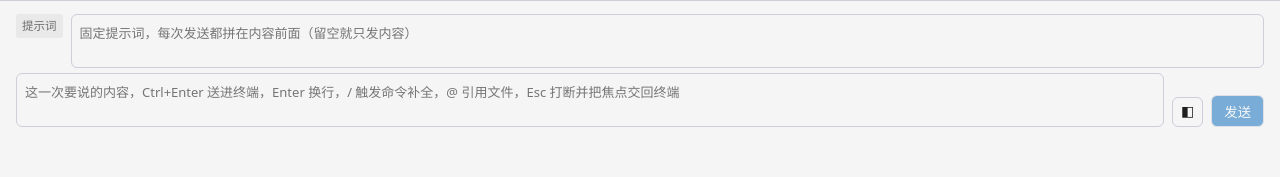
Test case: 终端输入框 › 提示词非空 + 内容是命令时，警告这条命令已经不是命令了
Replace the text in the 2nd text box with "/help": [590, 100] box left=16, top=73, right=1164, bottom=127
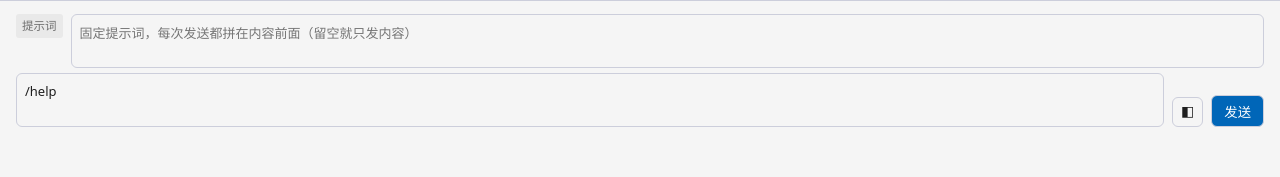
In the text box with placeholder "固定提示词，每次发送都拼在内容前面（留空就只发内容）": [667, 41] box left=70, top=14, right=1264, bottom=68, type "请只用一句话回答："
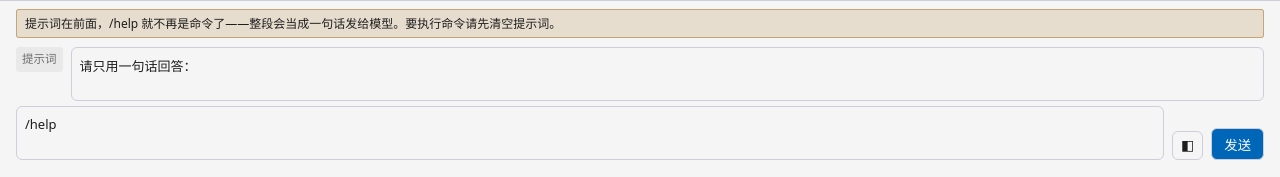
Expected: the message "提示词在前面，/help 就不再是命令了——整段会当成一句话发给模型。要执行命令请先清空提示词。" is shown, left=16, top=9, right=1264, bottom=38
Expected: the message with class "composer-warning" shows "help", left=25, top=15, right=561, bottom=32
